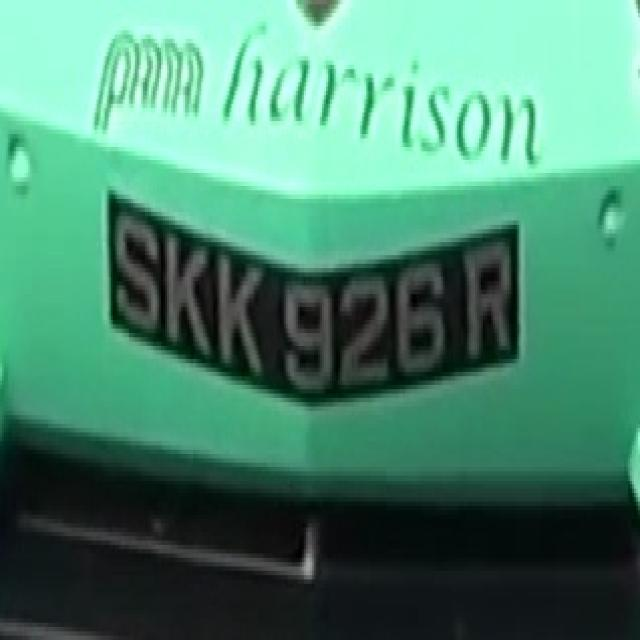2: (338, 259, 393, 406)
6: (396, 247, 451, 381)
9: (282, 247, 334, 402)
K: (215, 233, 264, 398), (165, 208, 209, 368)
R: (455, 225, 513, 367)
S: (111, 186, 163, 337)
